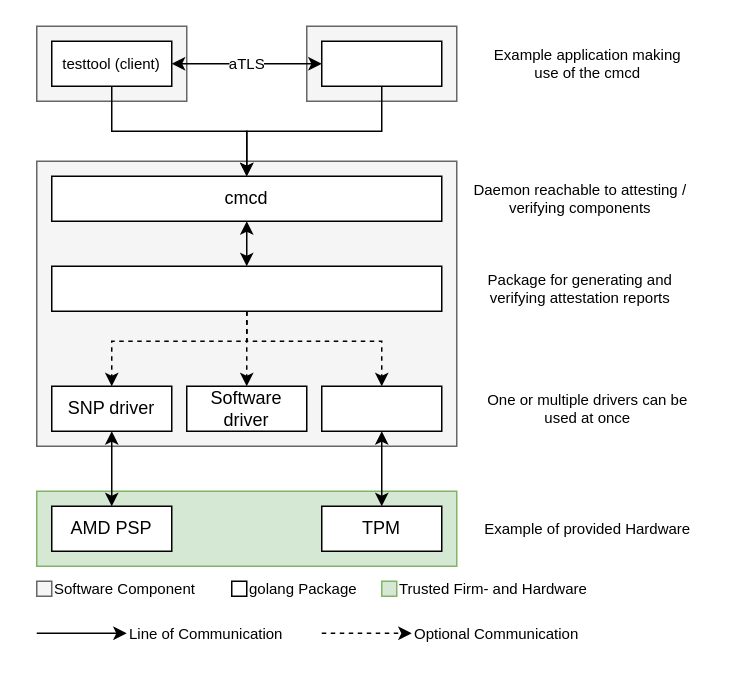
The diagram is 731 pixels wide and 683 high, and some of its shapes have lost their labels. Here are the shapes that lost their labels. From the top down, the box of each, then its label:
(320, 40, 442, 86): testtool (server)
(50, 265, 442, 311): attestationreport
(320, 385, 442, 431): TPM driver
